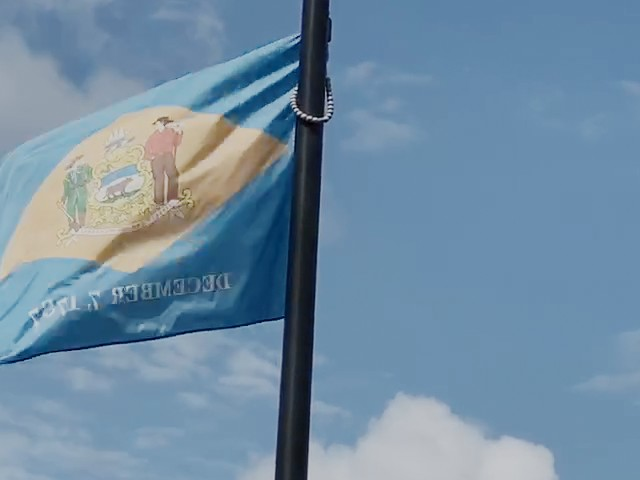Delaware flag: (1, 36, 297, 362)
